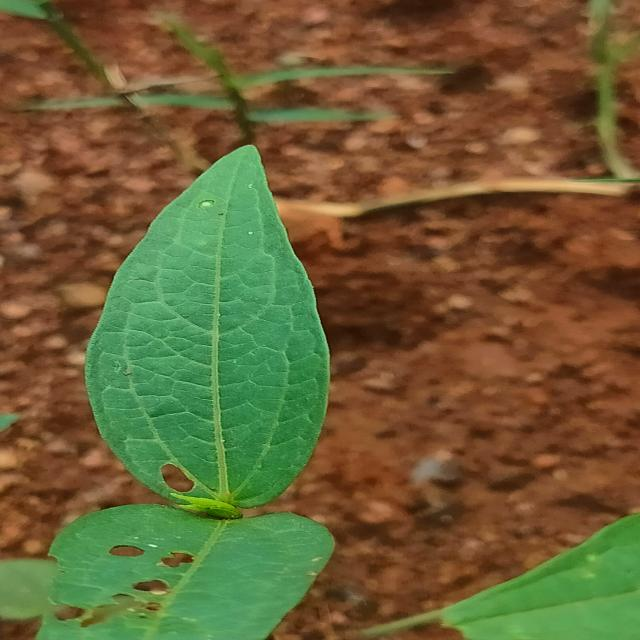Black gram_healthy: (88, 146, 329, 507)
